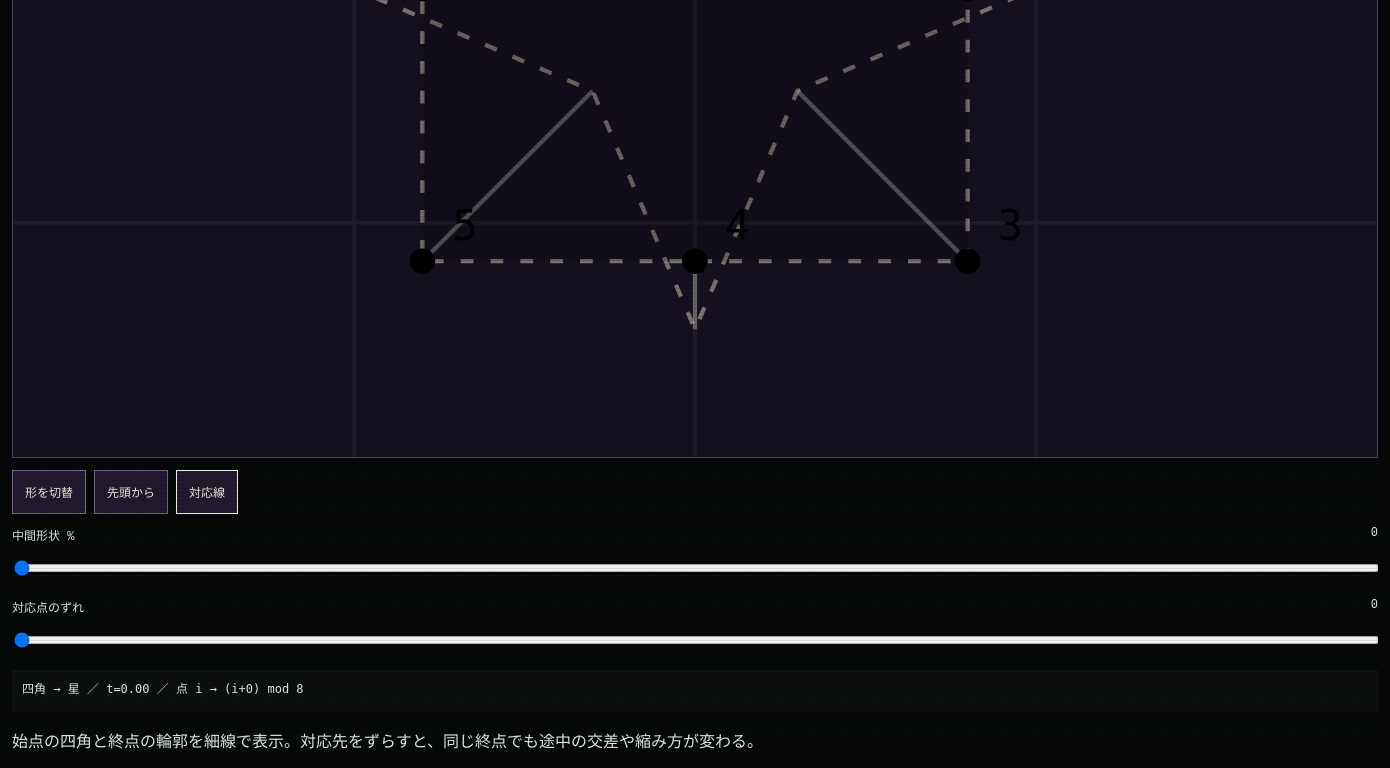
morph supports manual intermediate, shape and mapping in reduced motion
(page scrolled)
Set the slider labelled "中間形状 % 0" to "50" at (696, 568), box x1=14 y1=552 x2=1378 y2=584
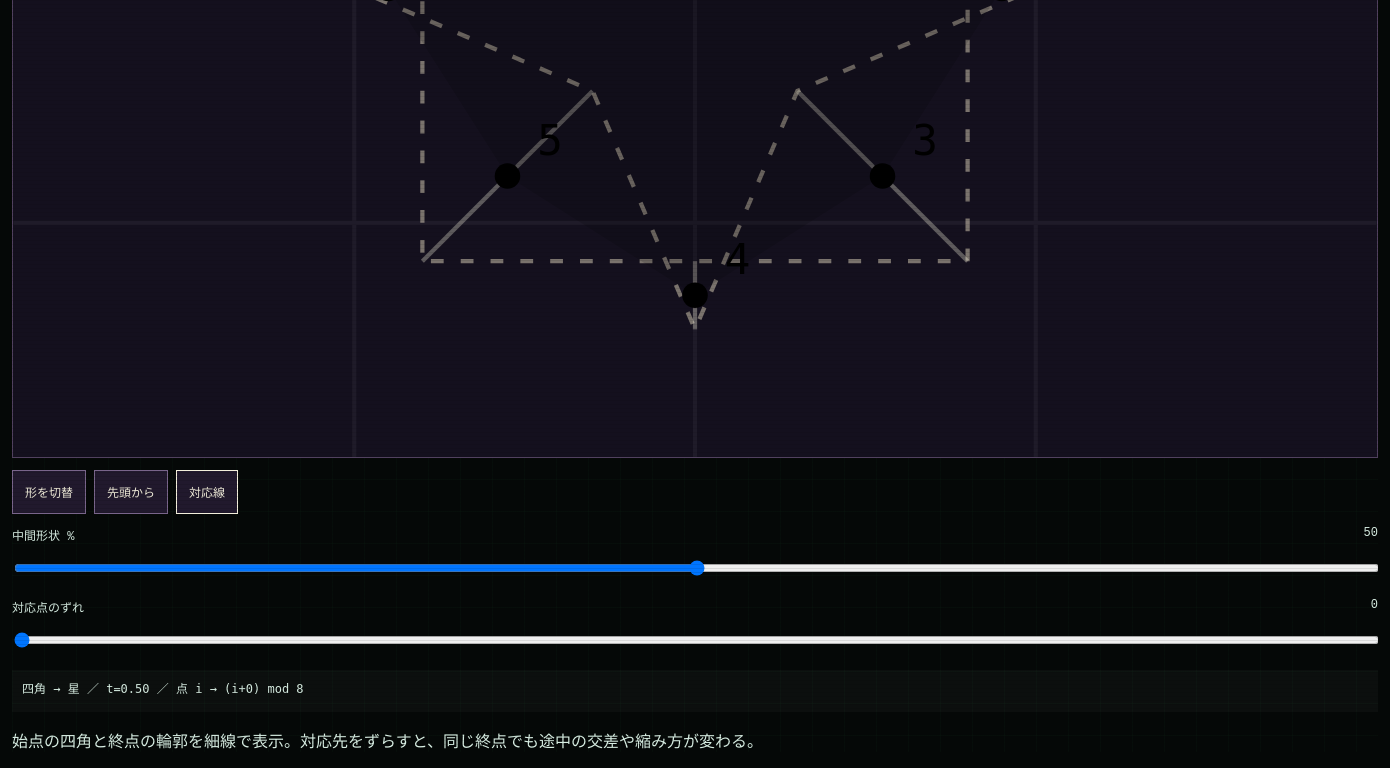
Expected: the text "四角 → 星 ／ t=0.50 ／ 点 i → (i+0) mod 8" is shown, x1=12 y1=670 x2=1378 y2=712
Set the slider labelled "対応点のずれ 0" to "3" at (600, 640), box x1=14 y1=624 x2=1378 y2=656
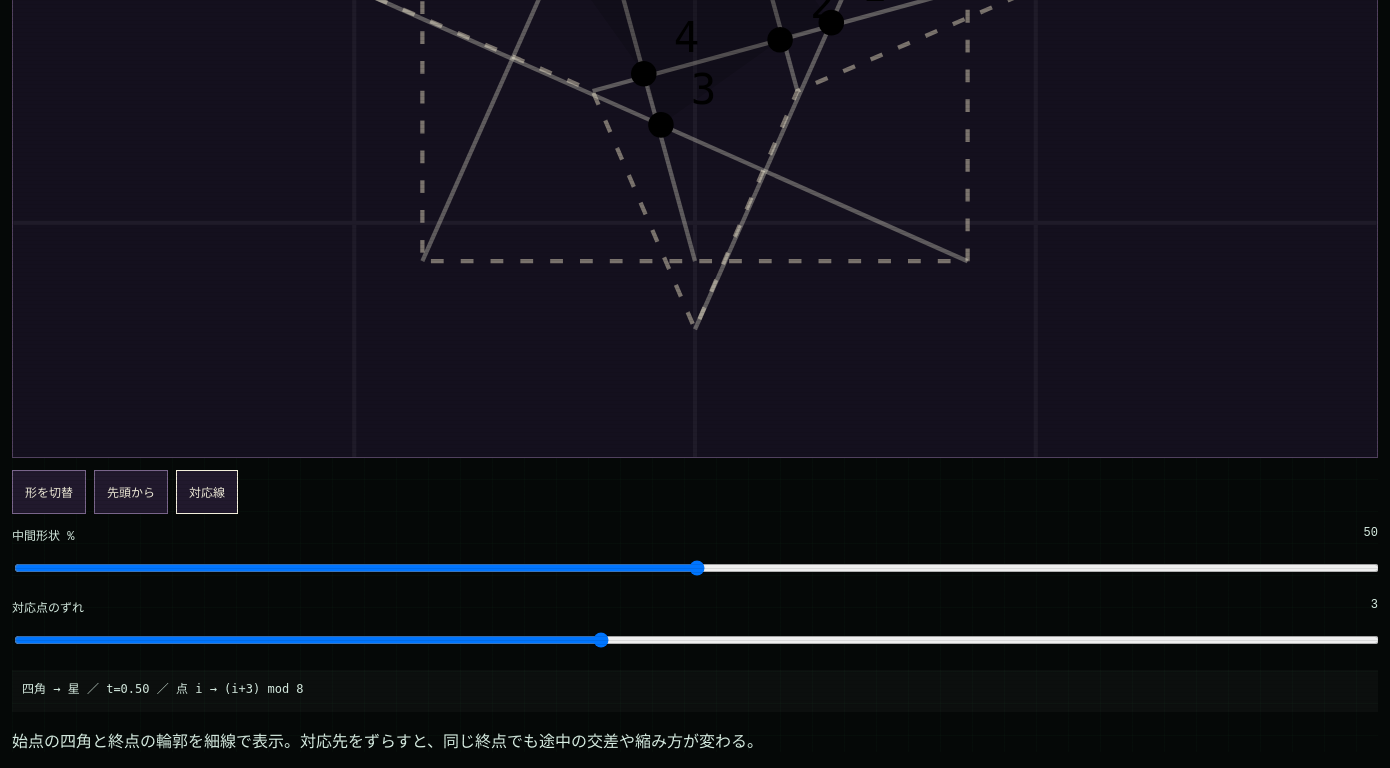
Expected: the text "四角 → 星 ／ t=0.50 ／ 点 i → (i+3) mod 8" is shown, x1=12 y1=670 x2=1378 y2=712
Click the button "形を切替" at (49, 492), box x1=12 y1=470 x2=86 y2=514
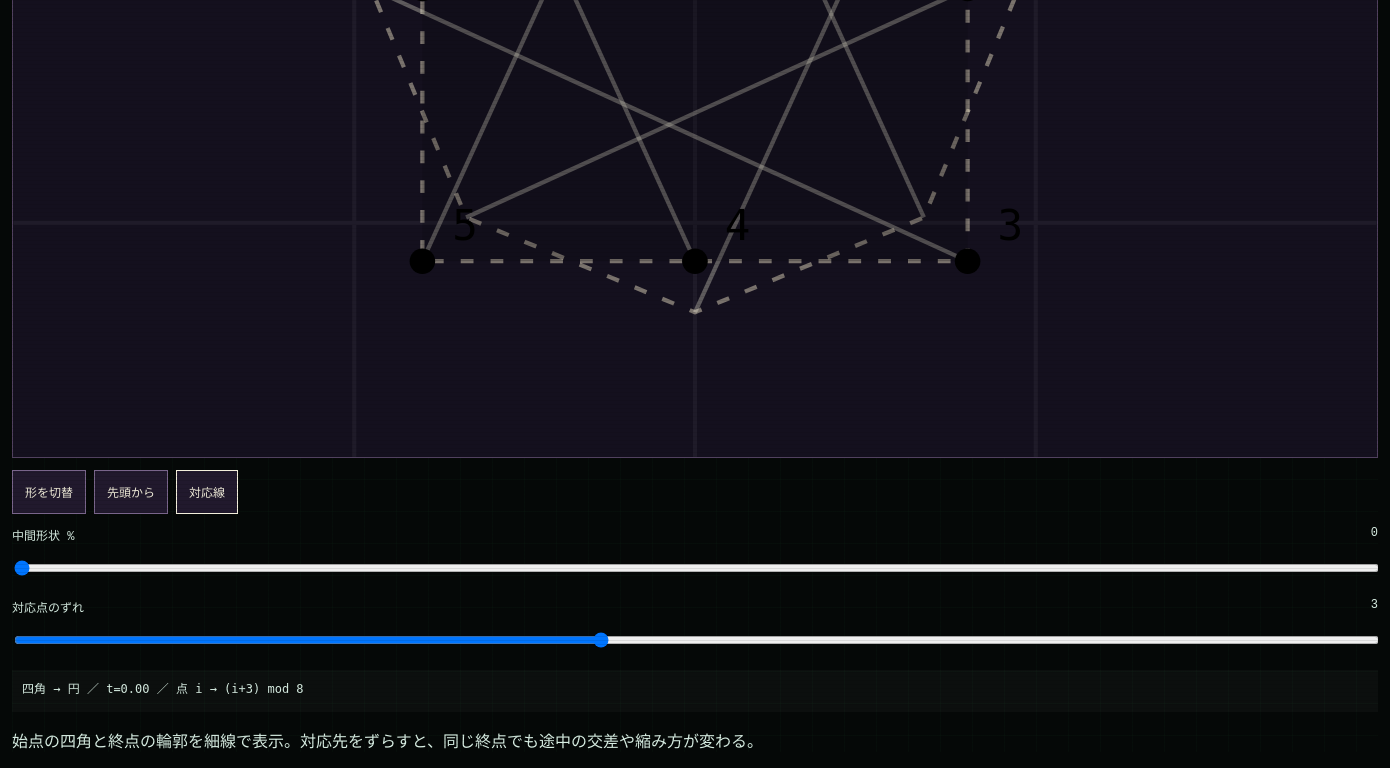
Expected: the text "四角 → 円 ／ t=0.00 ／ 点 i → (i+3) mod 8" is shown, x1=12 y1=670 x2=1378 y2=712
